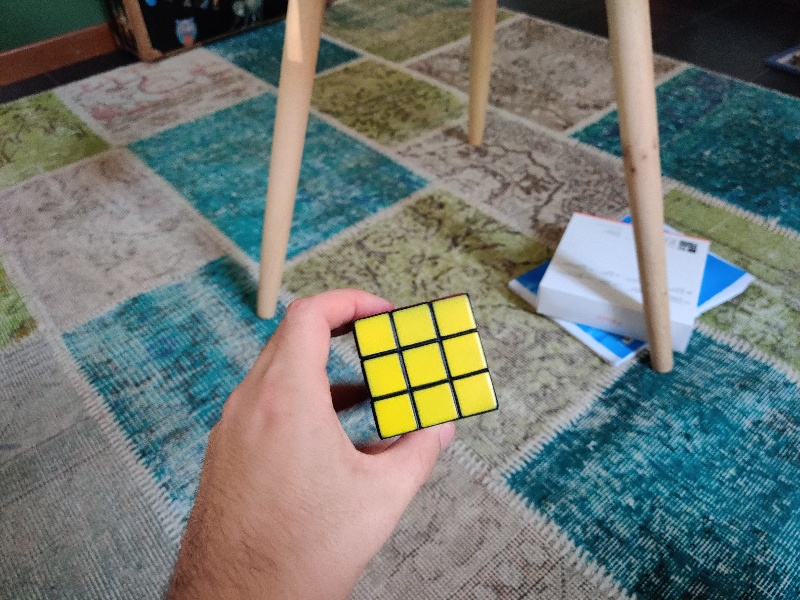rubik: (353, 294, 498, 439)
